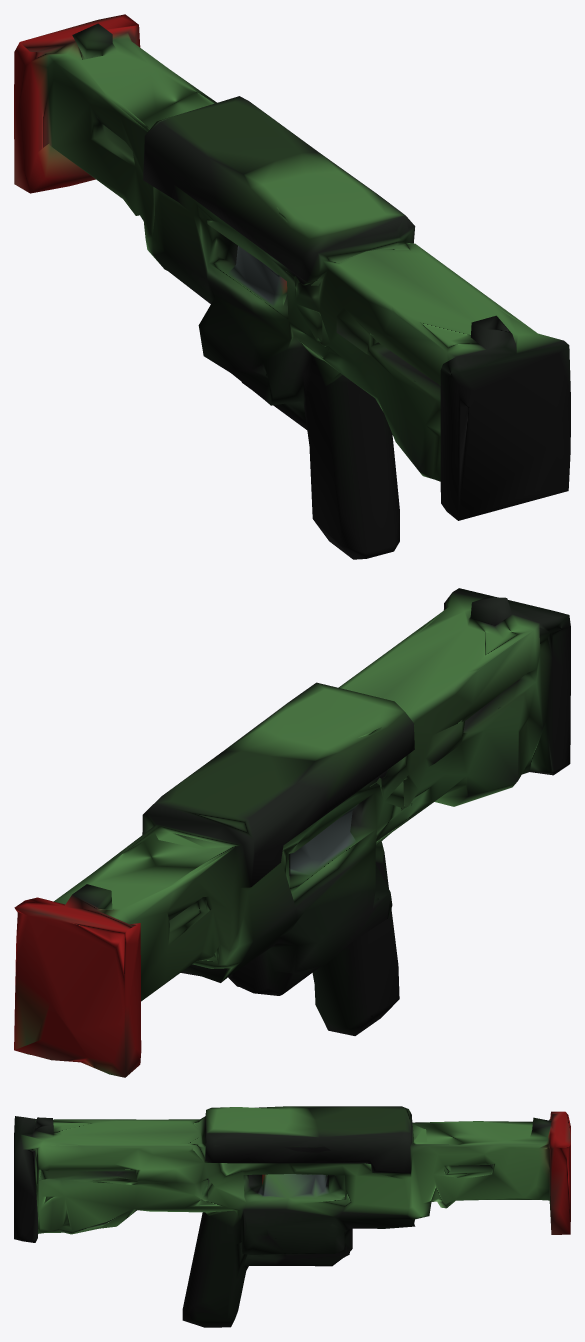
Rendered from gen3d-fps-lod0.glb.
3 views of the same model, one above another, from view 1: azimuth 30°, elevation 25°; view 2: azimuth 150°, elevation 25°; view 3: azimuth 270°, elevation 25° (orthographic). The views are drawn at different scales.
Visible parts, largest first — view 1: part_0; view 2: part_0; view 3: part_0.
Boxes of the visible parts, x1,y1,x2,y2 form: part_0: [14, 14, 570, 559]; part_0: [14, 588, 570, 1077]; part_0: [14, 1106, 570, 1327].
Size of the model in its own units: 0.394 by 0.9975 by 2.47.
